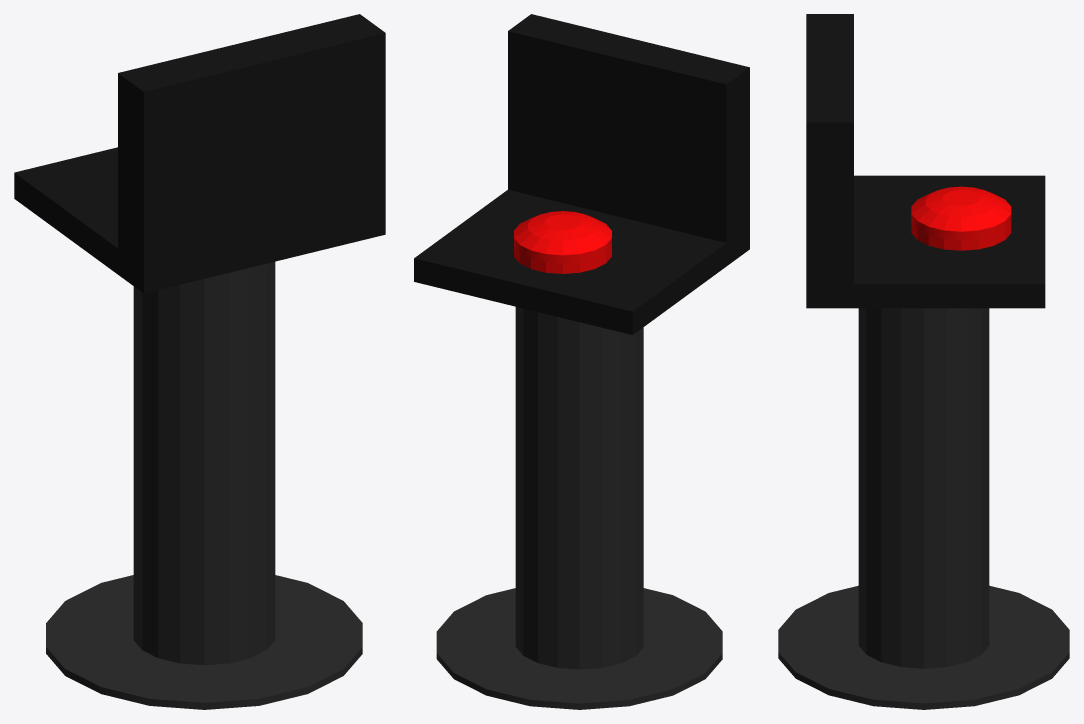
The model's file is nappi_stand.fbx.
3 renders of one model, left to right at view 1: azimuth 30°, elevation 25°; view 2: azimuth 150°, elevation 25°; view 3: azimuth 270°, elevation 25°, orthographic. The views are drawn at different scales.
Parts seen in each view (by area): view 1: nappi_stand; view 2: nappi_stand; view 3: nappi_stand.
Part boxes in pixels (x1,y1,x2,y2): nappi_stand: [14, 14, 385, 709]; nappi_stand: [414, 14, 749, 709]; nappi_stand: [778, 14, 1069, 709].
Bounding box in the file's own units: 40.42 × 86.99 × 39.81.
